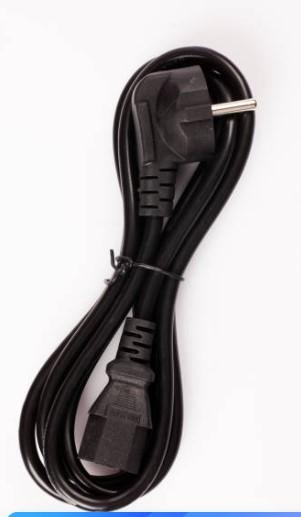cable: (19, 48, 255, 512)
